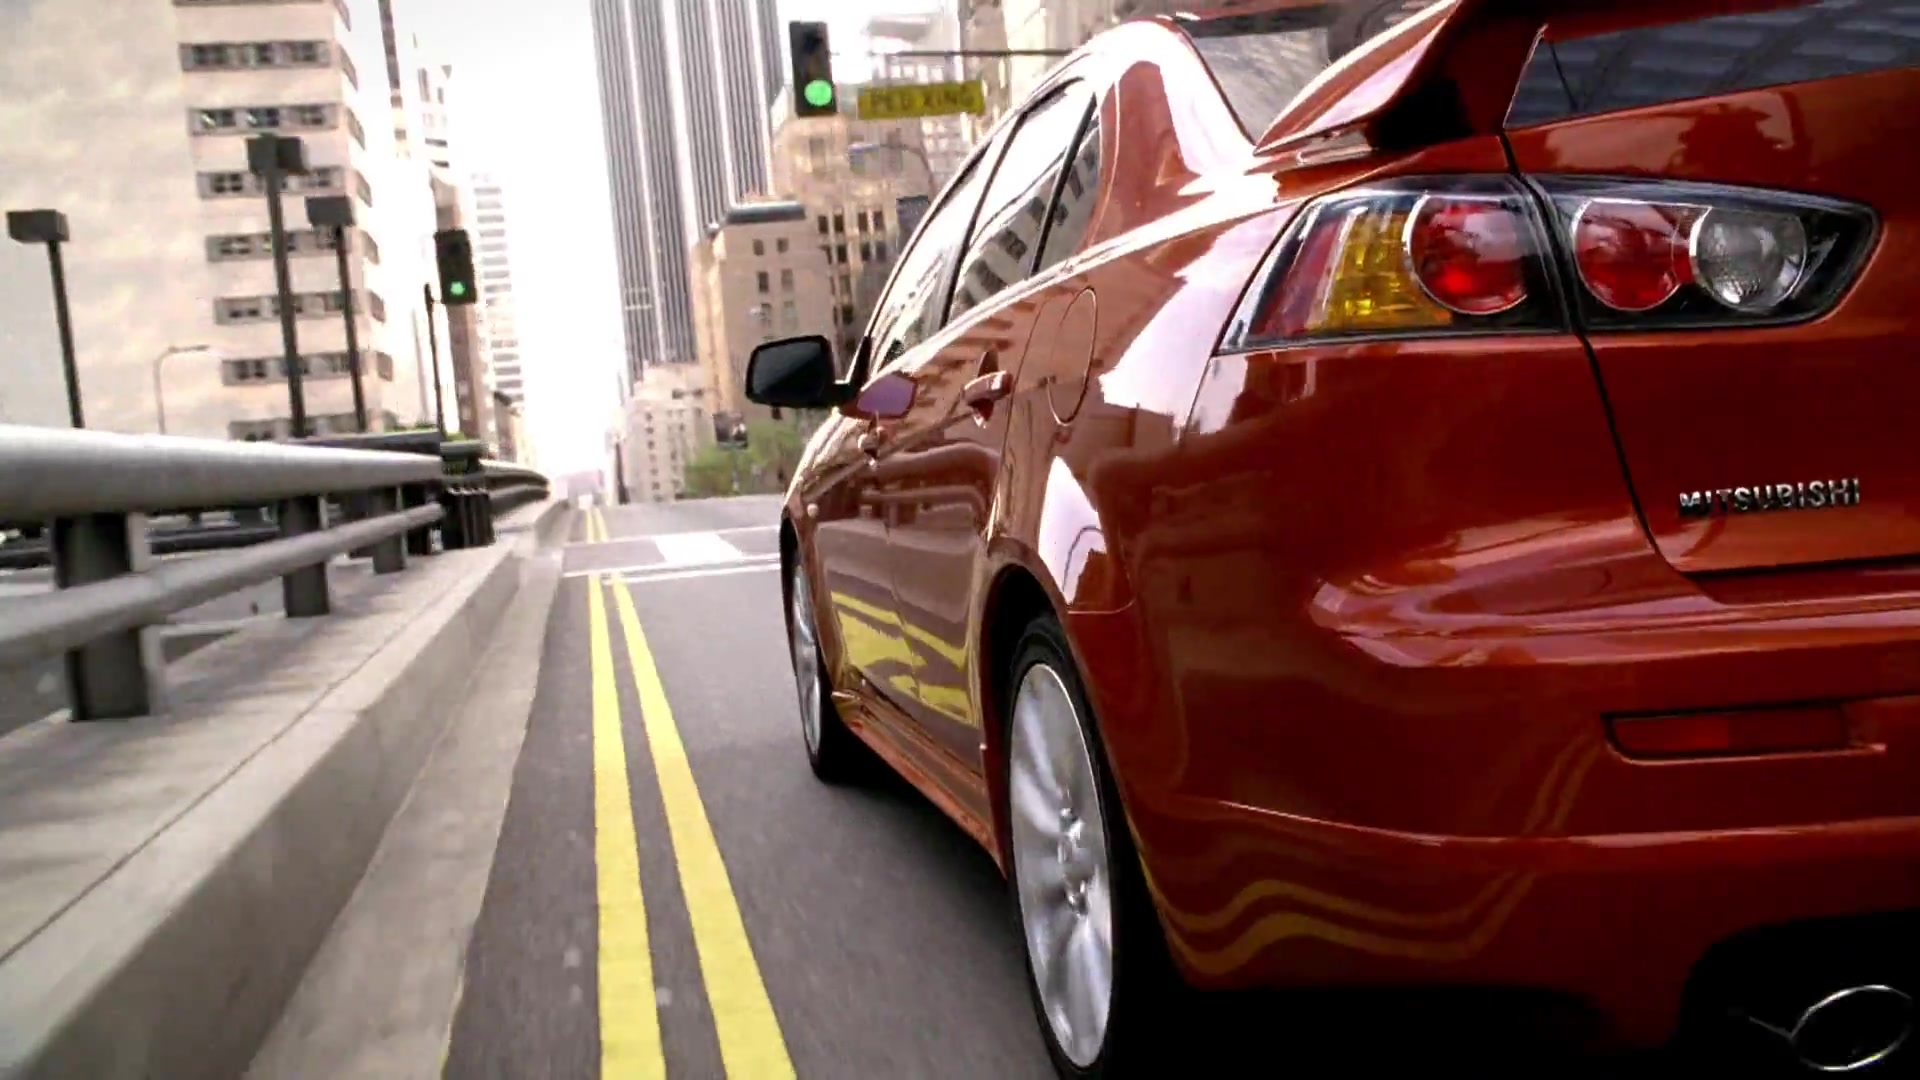car: (736, 5, 1920, 1080)
